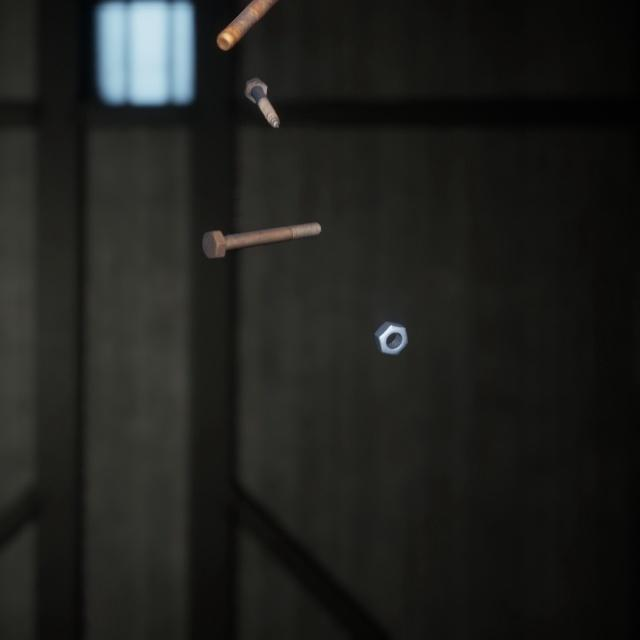bolt: (197, 201, 325, 246), (212, 0, 277, 46), (239, 61, 284, 119)
nut: (369, 299, 412, 342)
